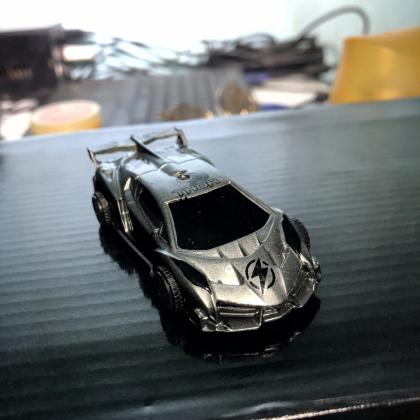Car: (82, 122, 328, 341)
